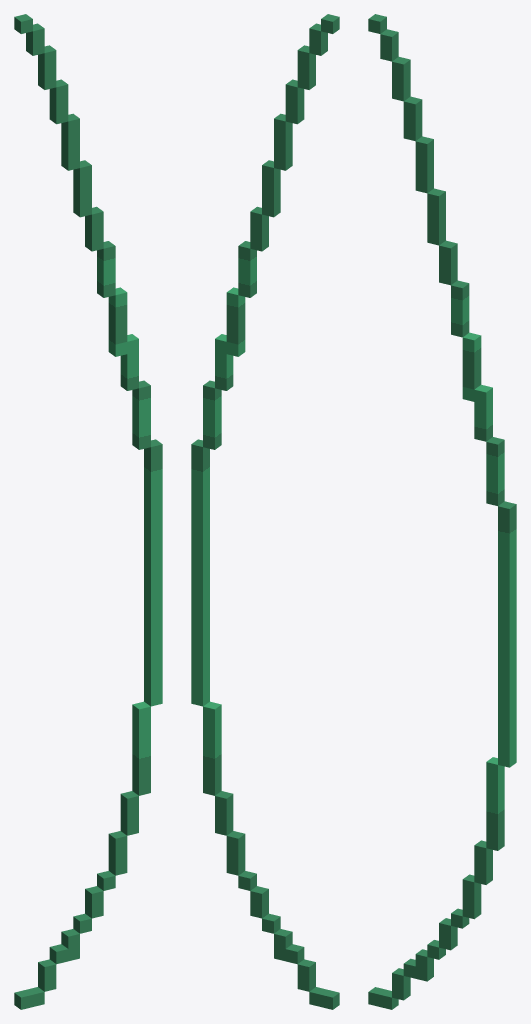
The model's file is vine3.fbx.
3 renders of one model, left to right at view 1: azimuth 30°, elevation 25°; view 2: azimuth 150°, elevation 25°; view 3: azimuth 330°, elevation 25°, orthographic.
Visible parts, largest first — view 1: vine3; view 2: vine3; view 3: vine3.
Boxes of the visible parts, left/top/right/bottom form: vine3: left=14, top=14, right=162, bottom=1009; vine3: left=191, top=14, right=339, bottom=1009; vine3: left=368, top=14, right=516, bottom=1009.
Size of the model in its own units: 12 by 80 by 1.
1 material, 1 textured.
